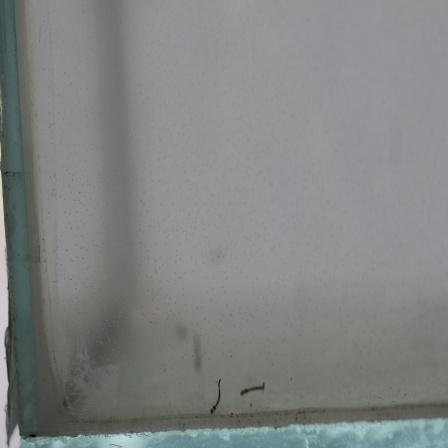Jentik-Nyamuk: (207, 374, 225, 414), (236, 378, 269, 398)
